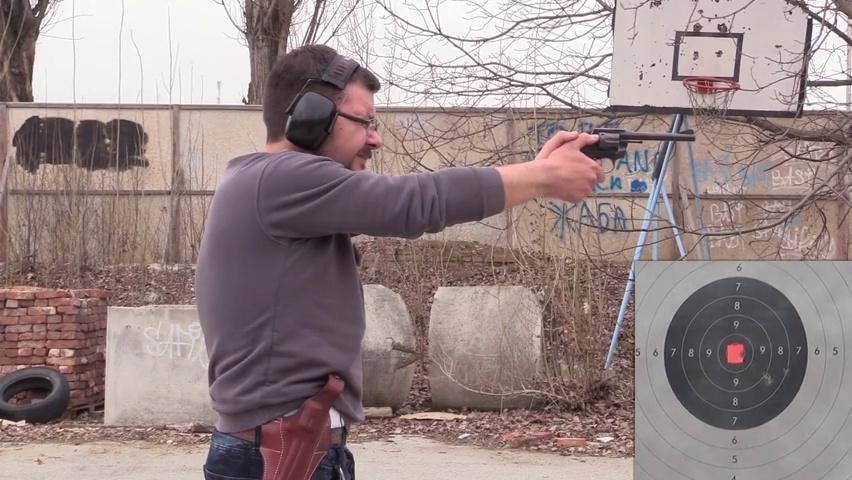gun: (538, 117, 695, 205)
